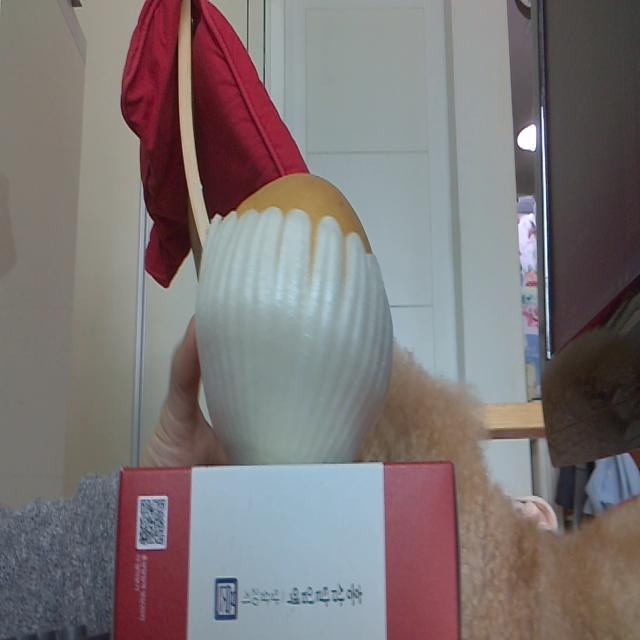pear: (197, 173, 392, 462)
